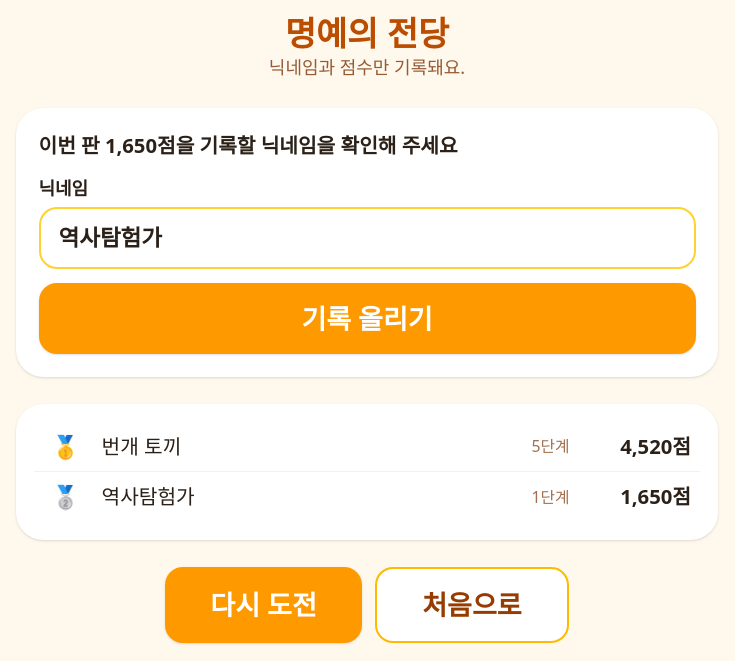
Scenario: LeaderboardPage › 끝난 판이 있으면 닉네임을 확인해 기록을 올리고 내 순위를 강조한다
The image size is (735, 661).
Expected: the field labelled "닉네임" holds "역사탐험가", top-left (38, 206), bottom-right (696, 269)
Click the button "기록 올리기".
click(367, 318)  # box top-left (38, 282), bottom-right (696, 354)
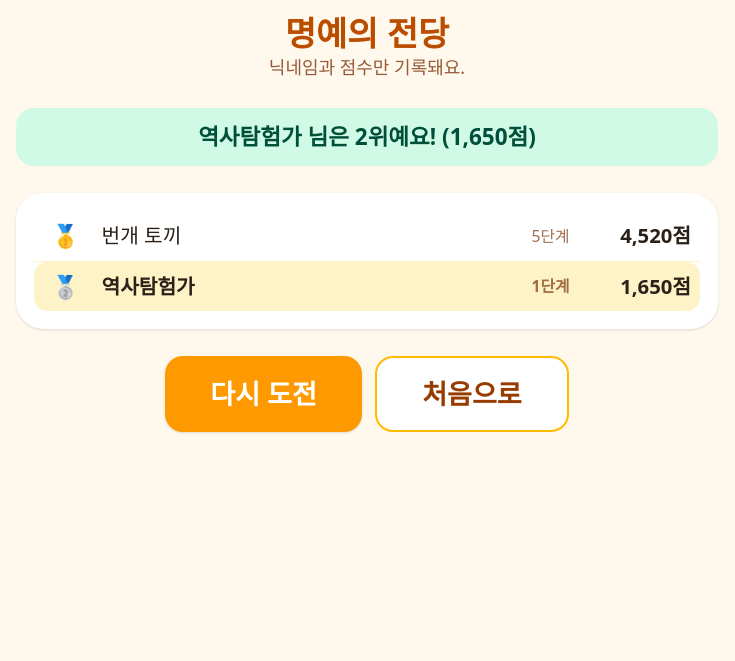
Expected: the list item "🥈 역사탐험가 1단계 1,650점" is shown, top-left (34, 262), bottom-right (700, 311)
Now the text "역사탐험가 님은 2위예요! (1,650점)" is shown, box top-left (16, 108), bottom-right (718, 166)
Now the button "기록 올리기" is gone
